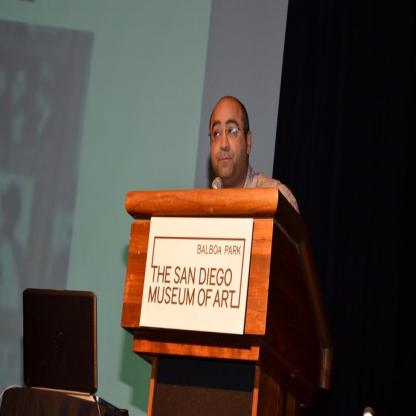board: (22, 290, 119, 409)
